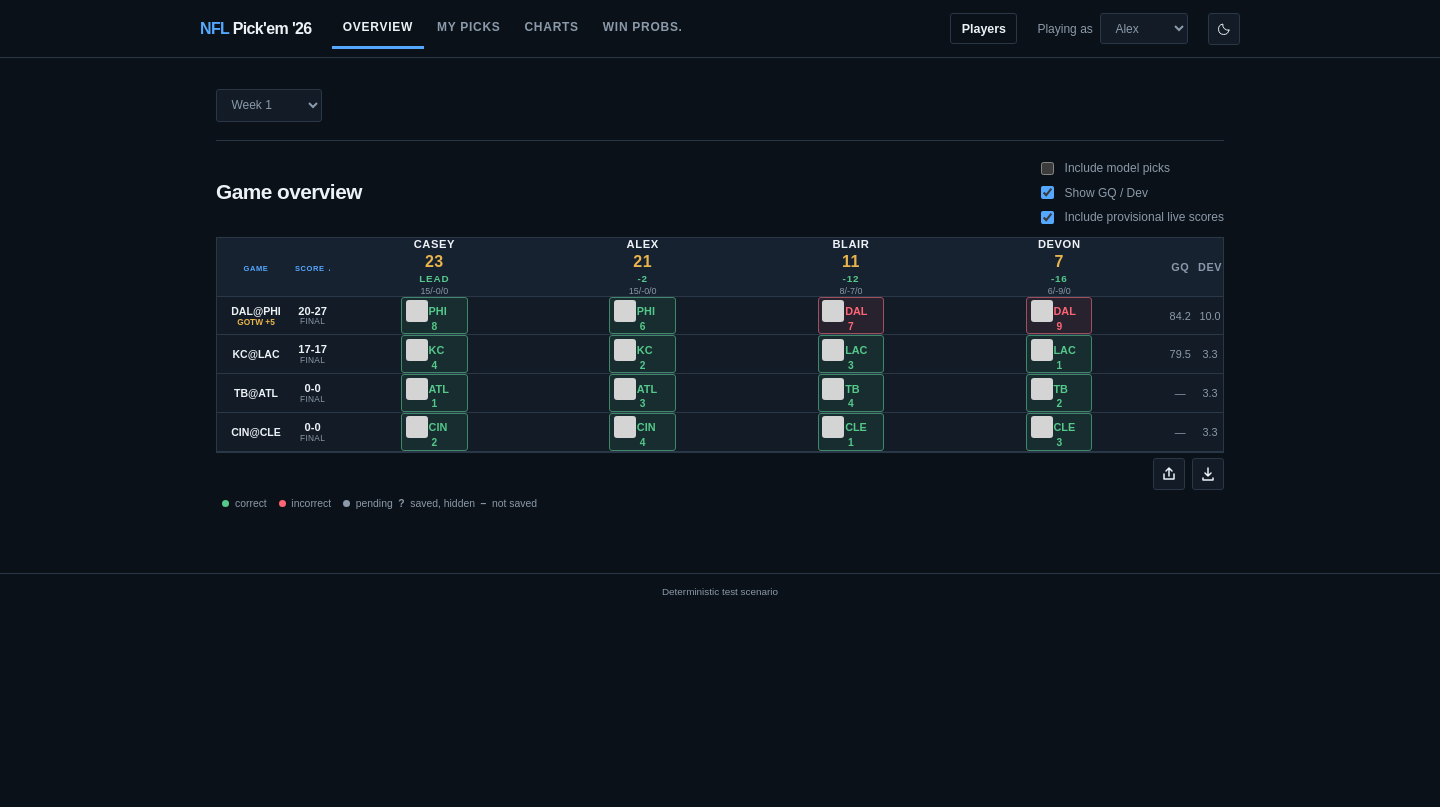
Test: four-user application flow › keeps model rankings and charts opt-in on the Charts tab
Click the button "Charts": (552, 28) [513,8,590,49]
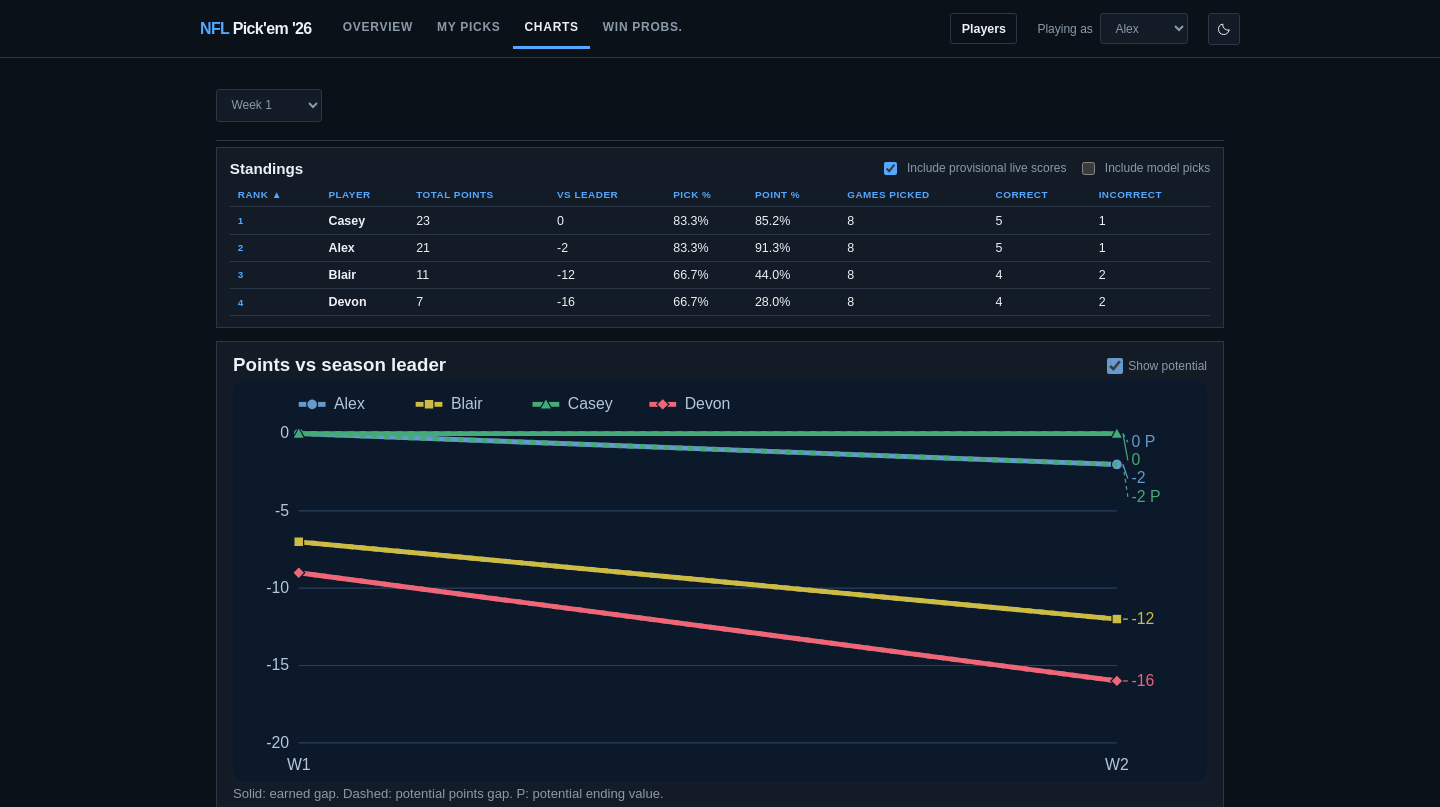
Click the checkbox labelled "Include model picks": (1088, 168) [1082,162,1095,175]
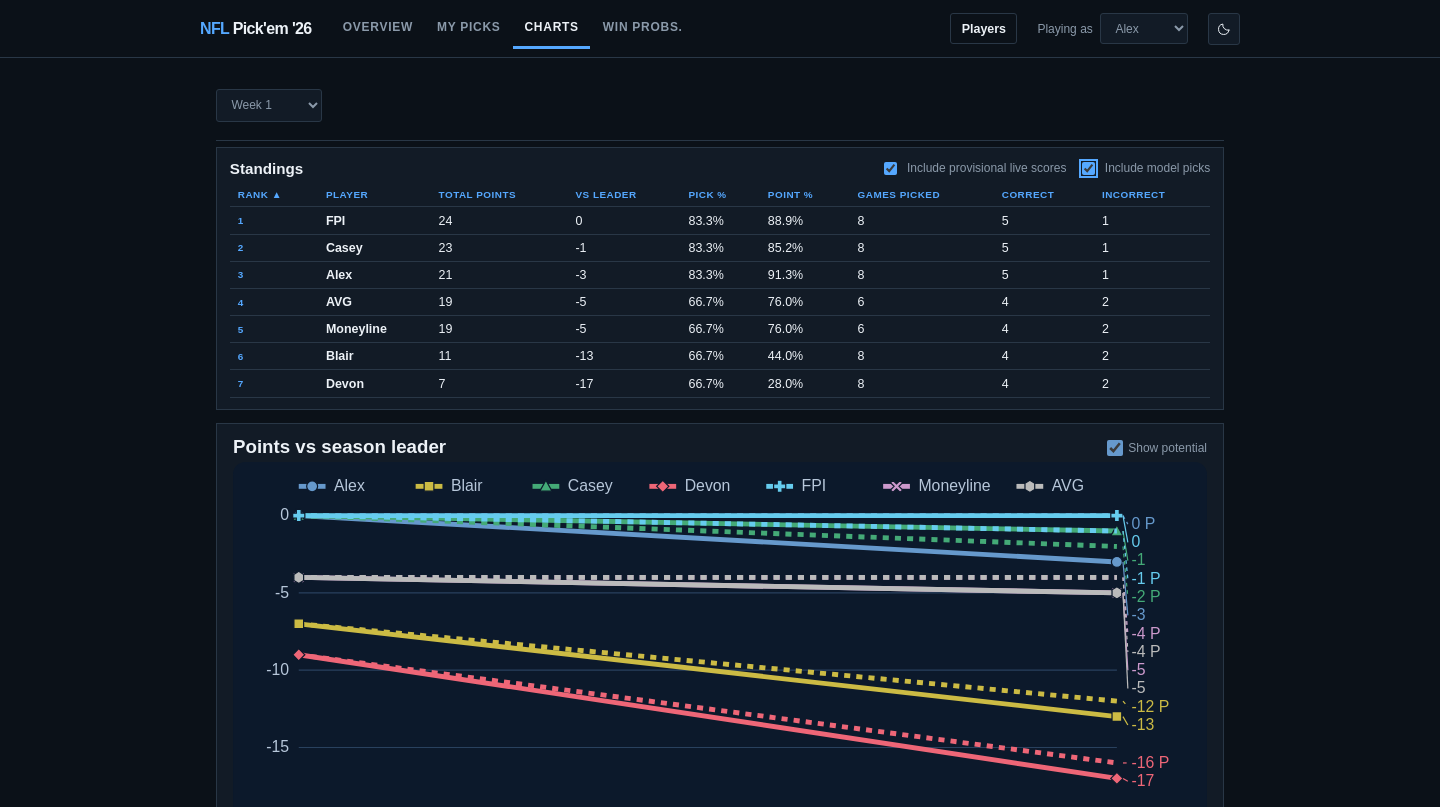
expect the text "FPI" is shown: met, box [326,214,345,228]
